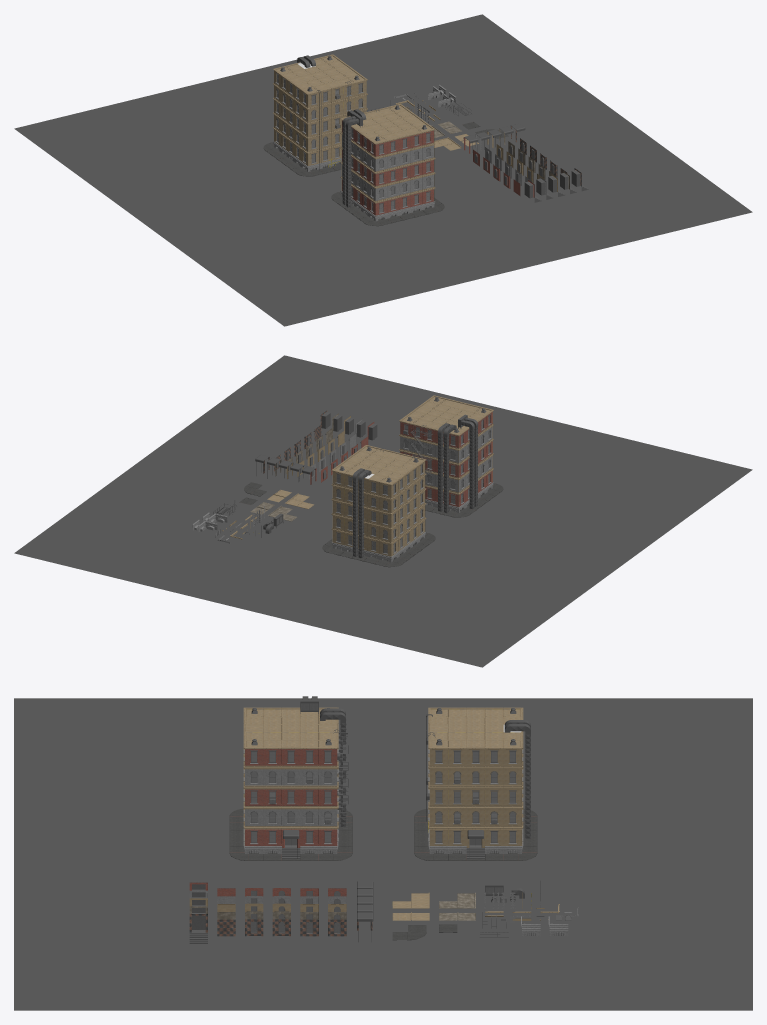
Rendered from test_building.fbx.
The picture shows the model from 3 angles, top to bottom: view 1: azimuth 30°, elevation 25°; view 2: azimuth 150°, elevation 25°; view 3: azimuth 270°, elevation 25°; orthographic projection. The views are drawn at different scales.
Visible parts, largest first — view 1: Плоскость; view 2: Плоскость; view 3: Плоскость, Entrance_5.
Boxes of the visible parts, bbox=[...] form: Плоскость: bbox=[14, 14, 752, 326]; Плоскость: bbox=[14, 355, 752, 667]; Плоскость: bbox=[14, 698, 752, 1010]; Entrance_5: bbox=[189, 913, 207, 943].
Bounding box in the file's own units: 8000 × 1462 × 8000.
3 materials, 1 textured.
